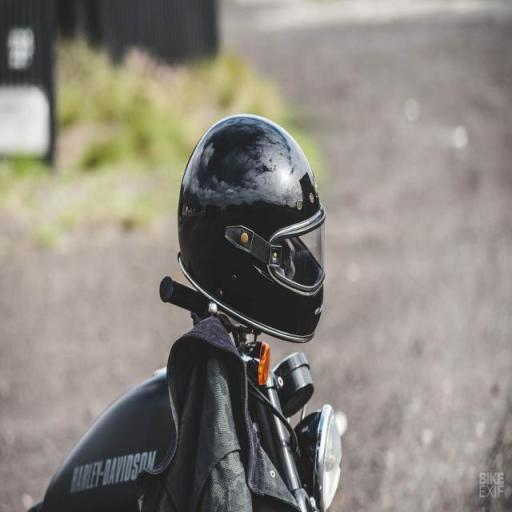Helmet: (178, 110, 337, 348)
